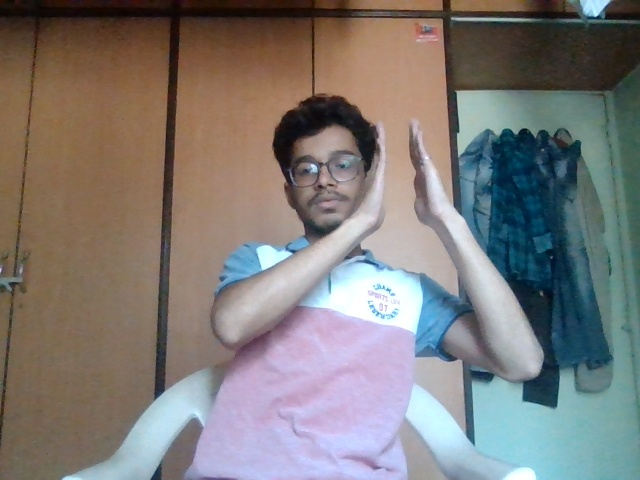morning: (346, 115, 483, 279)
